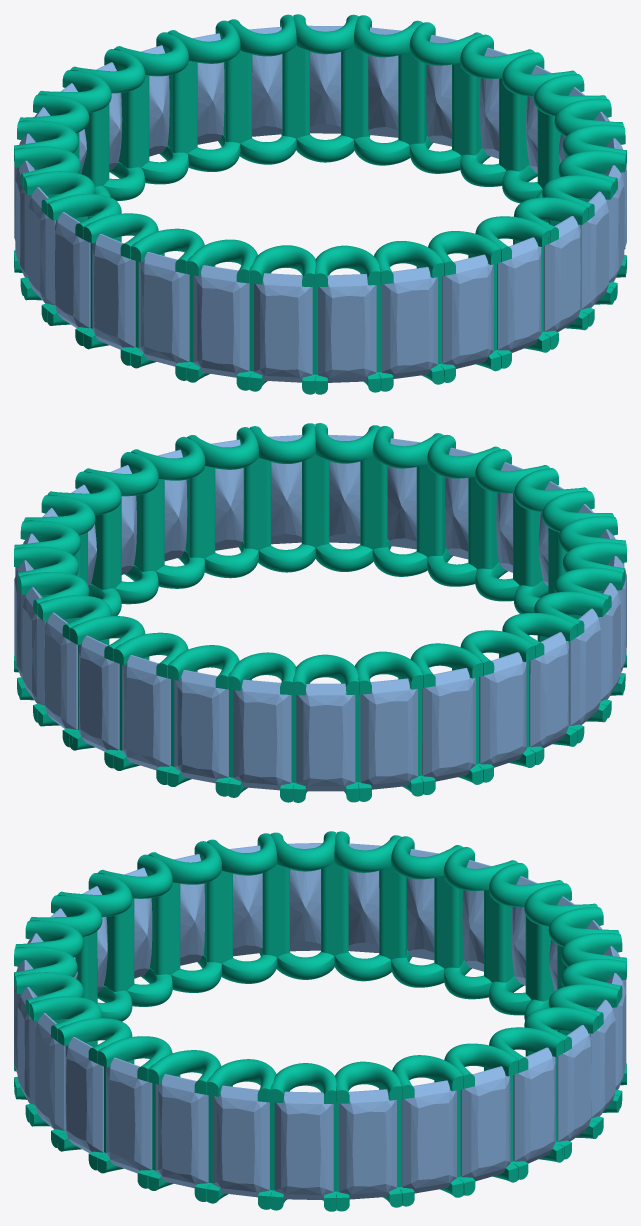
3 views of the same model, one above another, from view 1: azimuth 30°, elevation 25°; view 2: azimuth 150°, elevation 25°; view 3: azimuth 270°, elevation 25° (orthographic).
Visible parts, largest first — view 1: RED 4MM(base).3dm, Diamond_Radiant (×23); view 2: RED 4MM(base).3dm, Diamond_Radiant (×25); view 3: RED 4MM(base).3dm, Diamond_Radiant (×23).
Part boxes in pixels (box(x1,y1,x2,y2)): RED 4MM(base).3dm: box(14, 14, 626, 394); Diamond_Radiant (×23): box(15, 25, 624, 382); RED 4MM(base).3dm: box(14, 423, 626, 802); Diamond_Radiant (×25): box(14, 434, 626, 791); RED 4MM(base).3dm: box(14, 831, 626, 1211); Diamond_Radiant (×23): box(17, 843, 626, 1200).
Bounding box in the file's own units: 2.79 × 0.6492 × 2.79.
